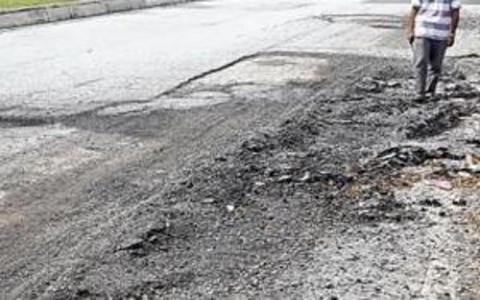patchy roads: (160, 45, 391, 274)
